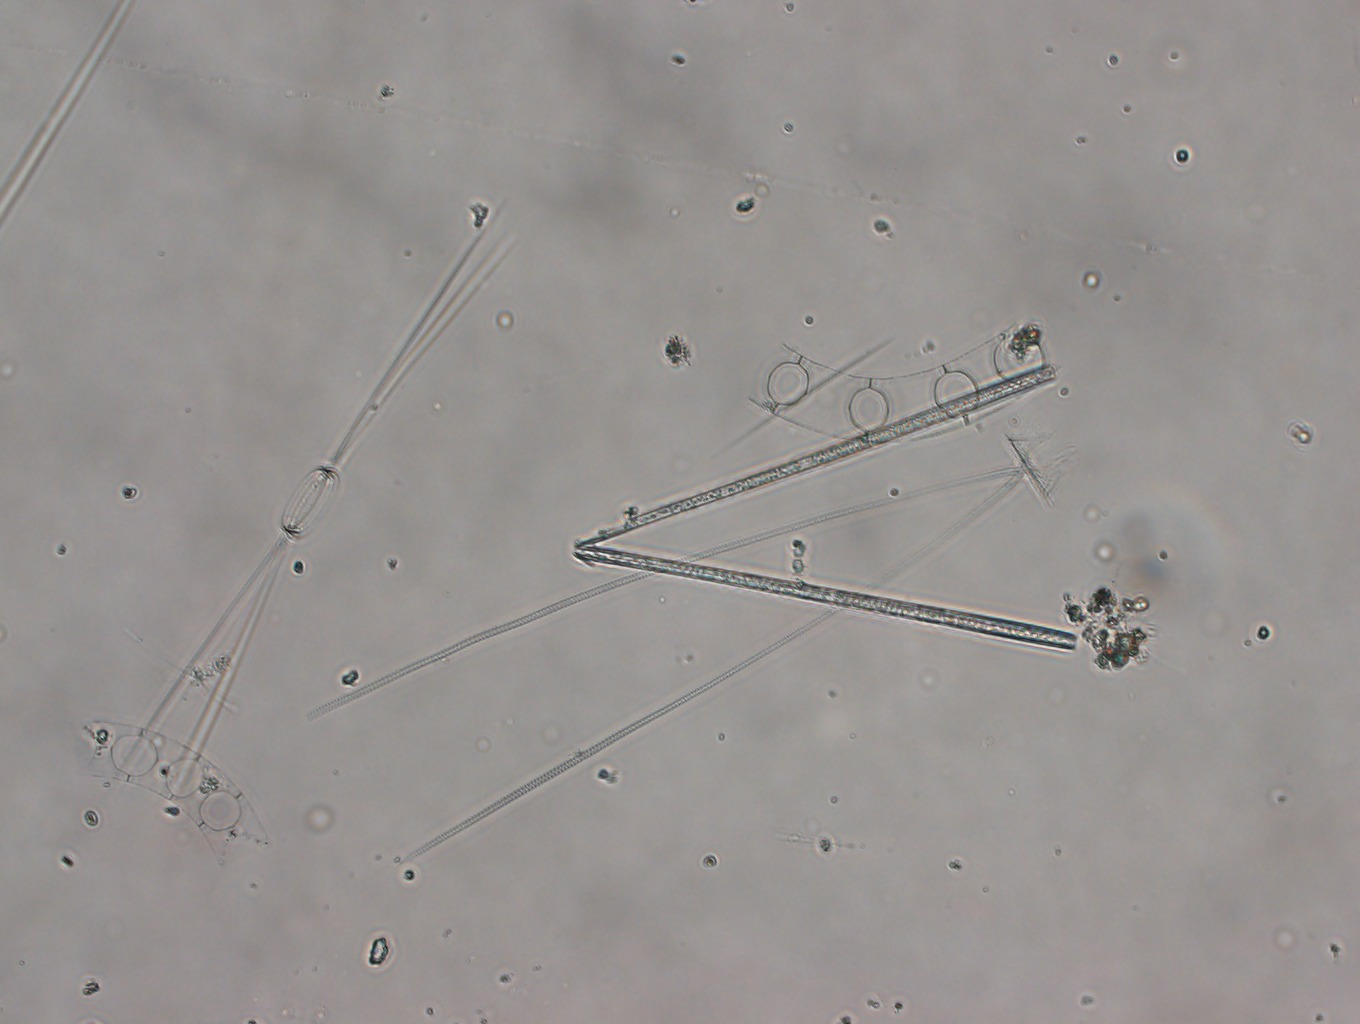chaetoceros: (99, 200, 522, 790)
eucampia: (749, 310, 1066, 453), (65, 715, 276, 881)
thalassionema frauenfeldii: (561, 358, 1083, 662)
